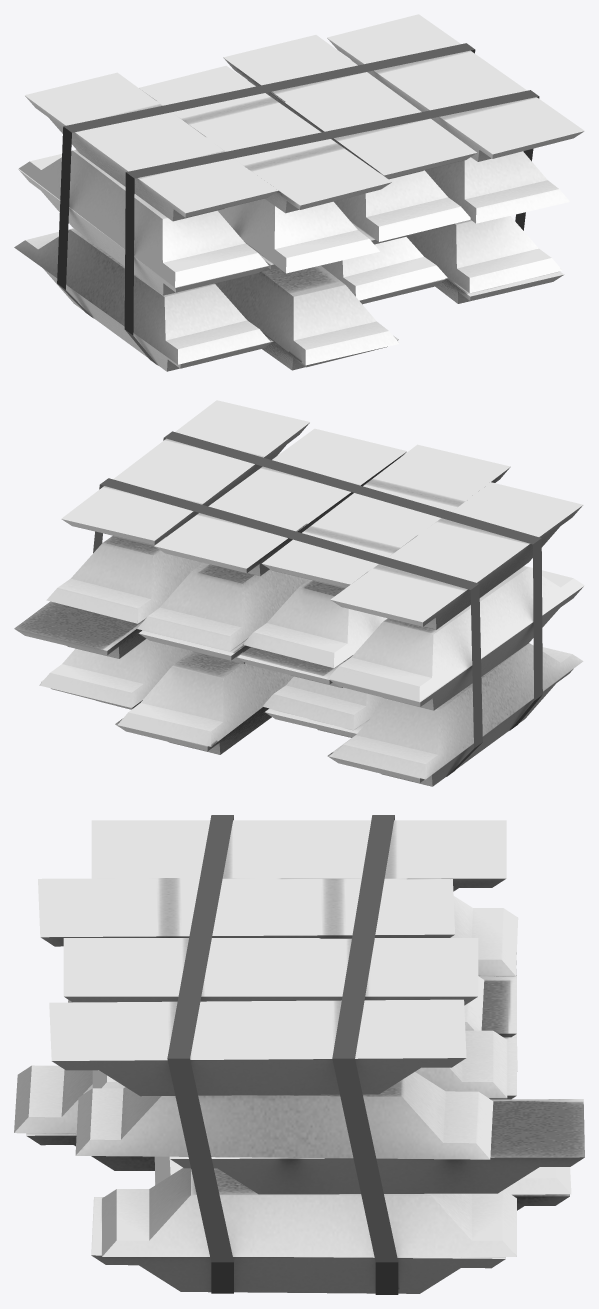
File: tinBlocks_false.fbx
3 renders of one model, top to bottom at view 1: azimuth 30°, elevation 25°; view 2: azimuth 150°, elevation 25°; view 3: azimuth 270°, elevation 25°, orthographic. The views are drawn at different scales.
Parts seen in each view (by area): view 1: tinBlocks_false; view 2: tinBlocks_false; view 3: tinBlocks_false.
Part boxes in pixels (left/top/right/bottom): tinBlocks_false: left=14, top=14, right=584, bottom=371; tinBlocks_false: left=14, top=400, right=584, bottom=786; tinBlocks_false: left=14, top=815, right=584, bottom=1294.
Bounding box in the file's own units: 0.7956 × 0.3754 × 0.7767.
1 material, 1 textured.
